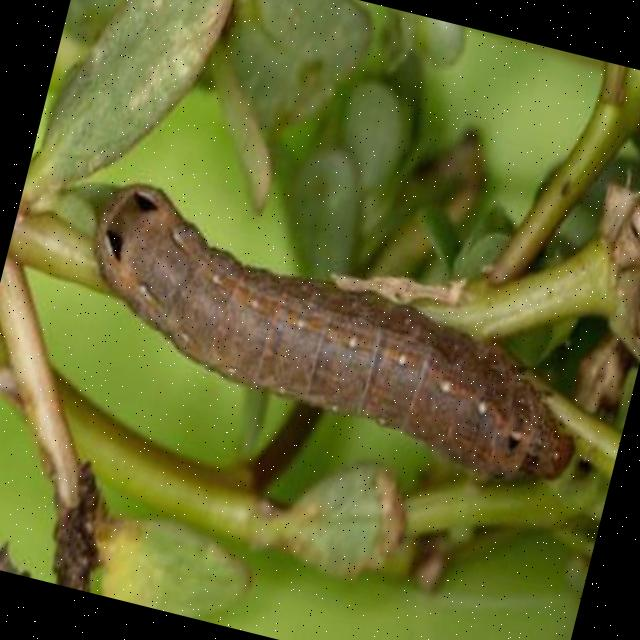worm: (57, 173, 614, 501)
